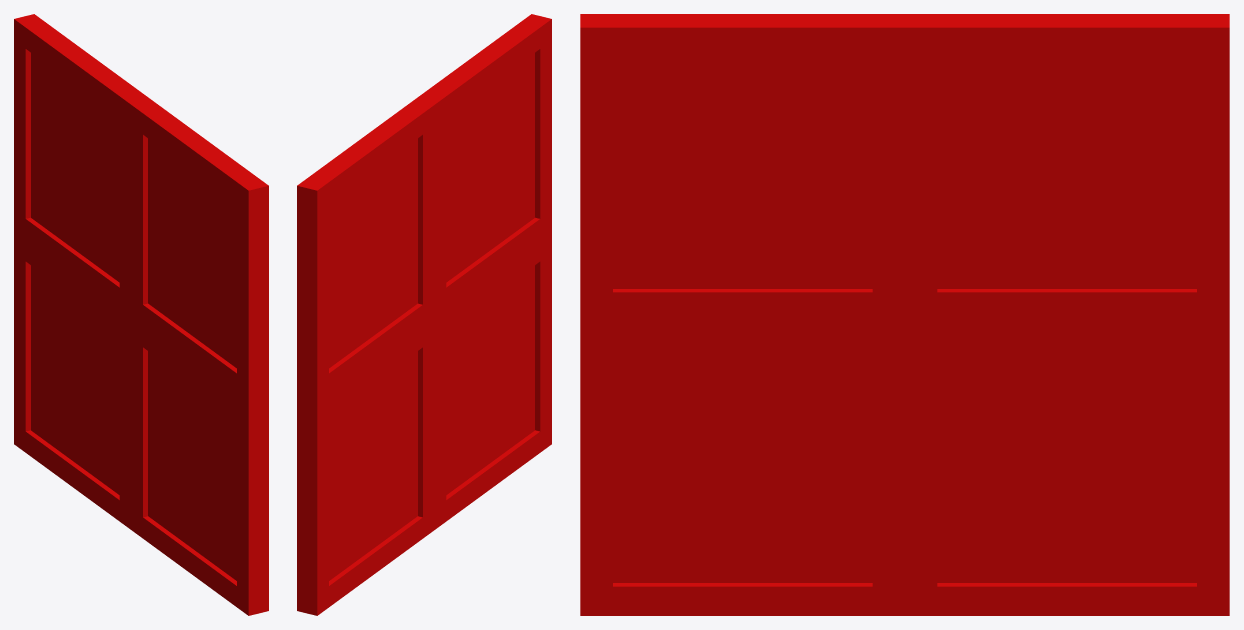
Rendered from u2_window.fbx.
3 views of the same model, side by side, from view 1: azimuth 30°, elevation 25°; view 2: azimuth 150°, elevation 25°; view 3: azimuth 270°, elevation 25° (orthographic). The views are drawn at different scales.
Visible parts, largest first — view 1: window glass_low.001, window rama_low.001; view 2: window glass_low.001, window rama_low.001; view 3: window glass_low.001, window rama_low.001.
Boxes of the visible parts, <box> form: window glass_low.001: <box>31,53,236,580</box>; window rama_low.001: <box>14,14,268,615</box>; window glass_low.001: <box>329,53,534,580</box>; window rama_low.001: <box>297,14,551,615</box>; window glass_low.001: <box>613,57,1196,582</box>; window rama_low.001: <box>580,14,1229,615</box>.
Size of the model in its own units: 5 by 100 by 100.
